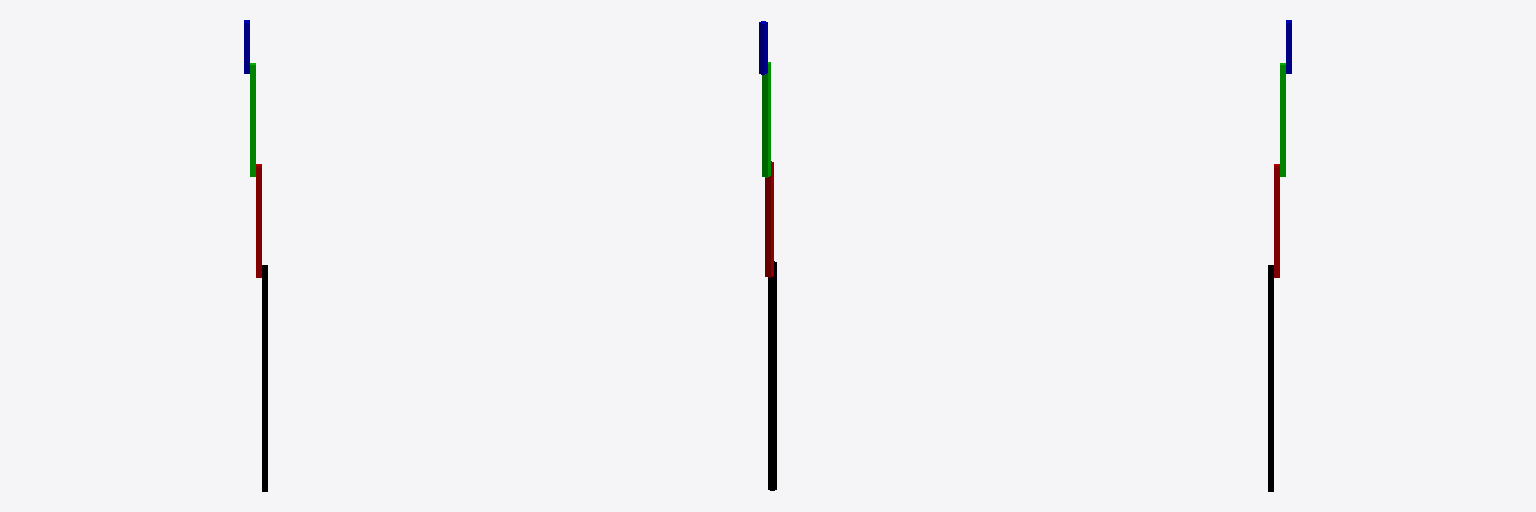
robot.urdf — r3bot:
<?xml version="1.0"?>
<robot name="r3bot">

  <!-- define the colors -->
  <material name="black">
    <color rgba="0.0 0.0 0.0 1.0" />
  </material>
  <material name="red">
    <color rgba="0.8 0.0 0.0 1.0" />
  </material>
  <material name="green">
    <color rgba="0.0 0.8 0.0 1.0" />
  </material>
  <material name="blue">
    <color rgba="0.0 0.0 0.8 1.0" />
  </material>
  
  <!-- create link fixed to the "world" -->
  <link name="world" />

  <!-- joint from "world" to "base_link"-->
  <joint name="base_joint" type="fixed">
    <origin rpy="0 0 0" xyz="0 0 0" />
    <parent link="world" />
    <child link="base_link" />
  </joint>

  <!-- Base Link -->
  <link name="base_link">
    <visual>
      <origin rpy="0 0 0" xyz="0 0 1.0" />
      <geometry>
        <box size="0.05 0.05 2" />
      </geometry>
      <material name="black" />
    </visual>
  </link>

  <!-- Joint 1 -->
  <joint name="joint1" type="revolute">
    <parent link="base_link" />
    <child link="link1" />
    <!-- offset by 5cm in y axis -->
    <origin rpy="0 0 0" xyz="0 0.05 1.95" />
    <limit effort="100" lower="-1.57" upper="1.57" velocity="0.3" />
    <axis xyz="0 1 0" />
  </joint>

  <!-- Link 1 -->
  <link name="link1">
    <visual>
      <origin rpy="0 0 0" xyz="0 0 0.45" />
      <geometry>
        <box size="0.05 0.05 1" />
      </geometry>
      <material name="red" />
    </visual>
  </link>

  <!-- Joint 2 -->
  <joint name="joint2" type="revolute">
    <parent link="link1" />
    <child link="link2" />
    <!-- offset by 5cm in y axis -->
    <origin rpy="0 0 0" xyz="0 0.05 0.9" />
    <limit effort="100" lower="-1.57" upper="1.57" velocity="0.3" />
    <axis xyz="0 1 0" />
  </joint>

  <!-- Link 2 -->
  <link name="link2">
    <visual>
      <origin rpy="0 0 0" xyz="0 0 0.45" />
      <geometry>
        <box size="0.05 0.05 1" />
      </geometry>
      <material name="green" />
    </visual>
  </link>

  <!-- Joint 3 -->
  <joint name="joint3" type="revolute">
    <parent link="link2" />
    <child link="link3" />
    <limit effort="100" lower="-1.57" upper="1.57" velocity="0.3"/>
    <!-- offset by 5cm in y axis -->
    <origin rpy="0 0 0" xyz="0 0.05 0.9" />
    <axis xyz="0 1 0" />
  </joint>

 <!-- Link 3 -->
  <link name="link3">
    <visual>
      <origin rpy="0 0 0" xyz="0 0 0.2" />
      <geometry>
        <box size="0.05 0.05 0.45" />
      </geometry>
      <material name="blue" />
    </visual>
  </link> 

  <!-- joint from link2 to tool0 -->
  <joint name="tool_joint" type="fixed">
    <origin rpy="0 0 0" xyz="0 0 0.95" />
    <parent link="link3" />
    <child link="tool0" />
  </joint>

  <!-- Tool Link -->
  <link name="tool0" />
  
</robot>

--- Facts derived from the render (not from the file) ---
The picture shows the robot from 3 angles, left to right: view 1: azimuth 90°, elevation 25°; view 2: azimuth 150°, elevation 25°; view 3: azimuth 270°, elevation 25°; orthographic projection.
Model r3bot with 6 links and 5 joints (3 revolute, 2 fixed), rooted at world, posed all joints at 0.
Visible links, largest first — view 1: base_link, link1, link2; view 2: base_link, link2, link1; view 3: base_link, link1, link2.
Boxes of the visible links, box(x1,y1,x2,y2) form: base_link: box(262, 265, 267, 491); link1: box(256, 164, 261, 277); link2: box(250, 63, 255, 176); base_link: box(768, 261, 776, 490); link2: box(762, 62, 770, 177); link1: box(765, 161, 773, 277); base_link: box(1268, 265, 1273, 491); link1: box(1274, 164, 1279, 277); link2: box(1280, 63, 1285, 176).
Bounding box of the posed robot: 0.05 × 0.2 × 4.17 m (x, y, z).
Geometry: primitives only (box / cylinder / sphere), no mesh files.
